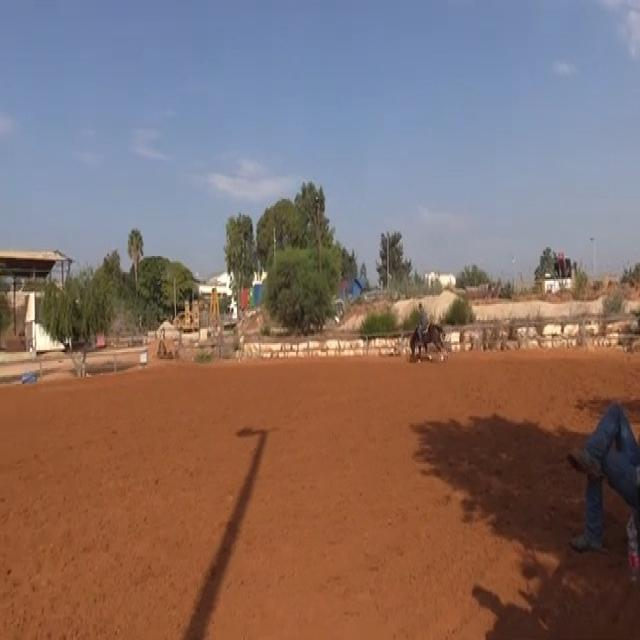horse: (406, 318, 448, 363)
